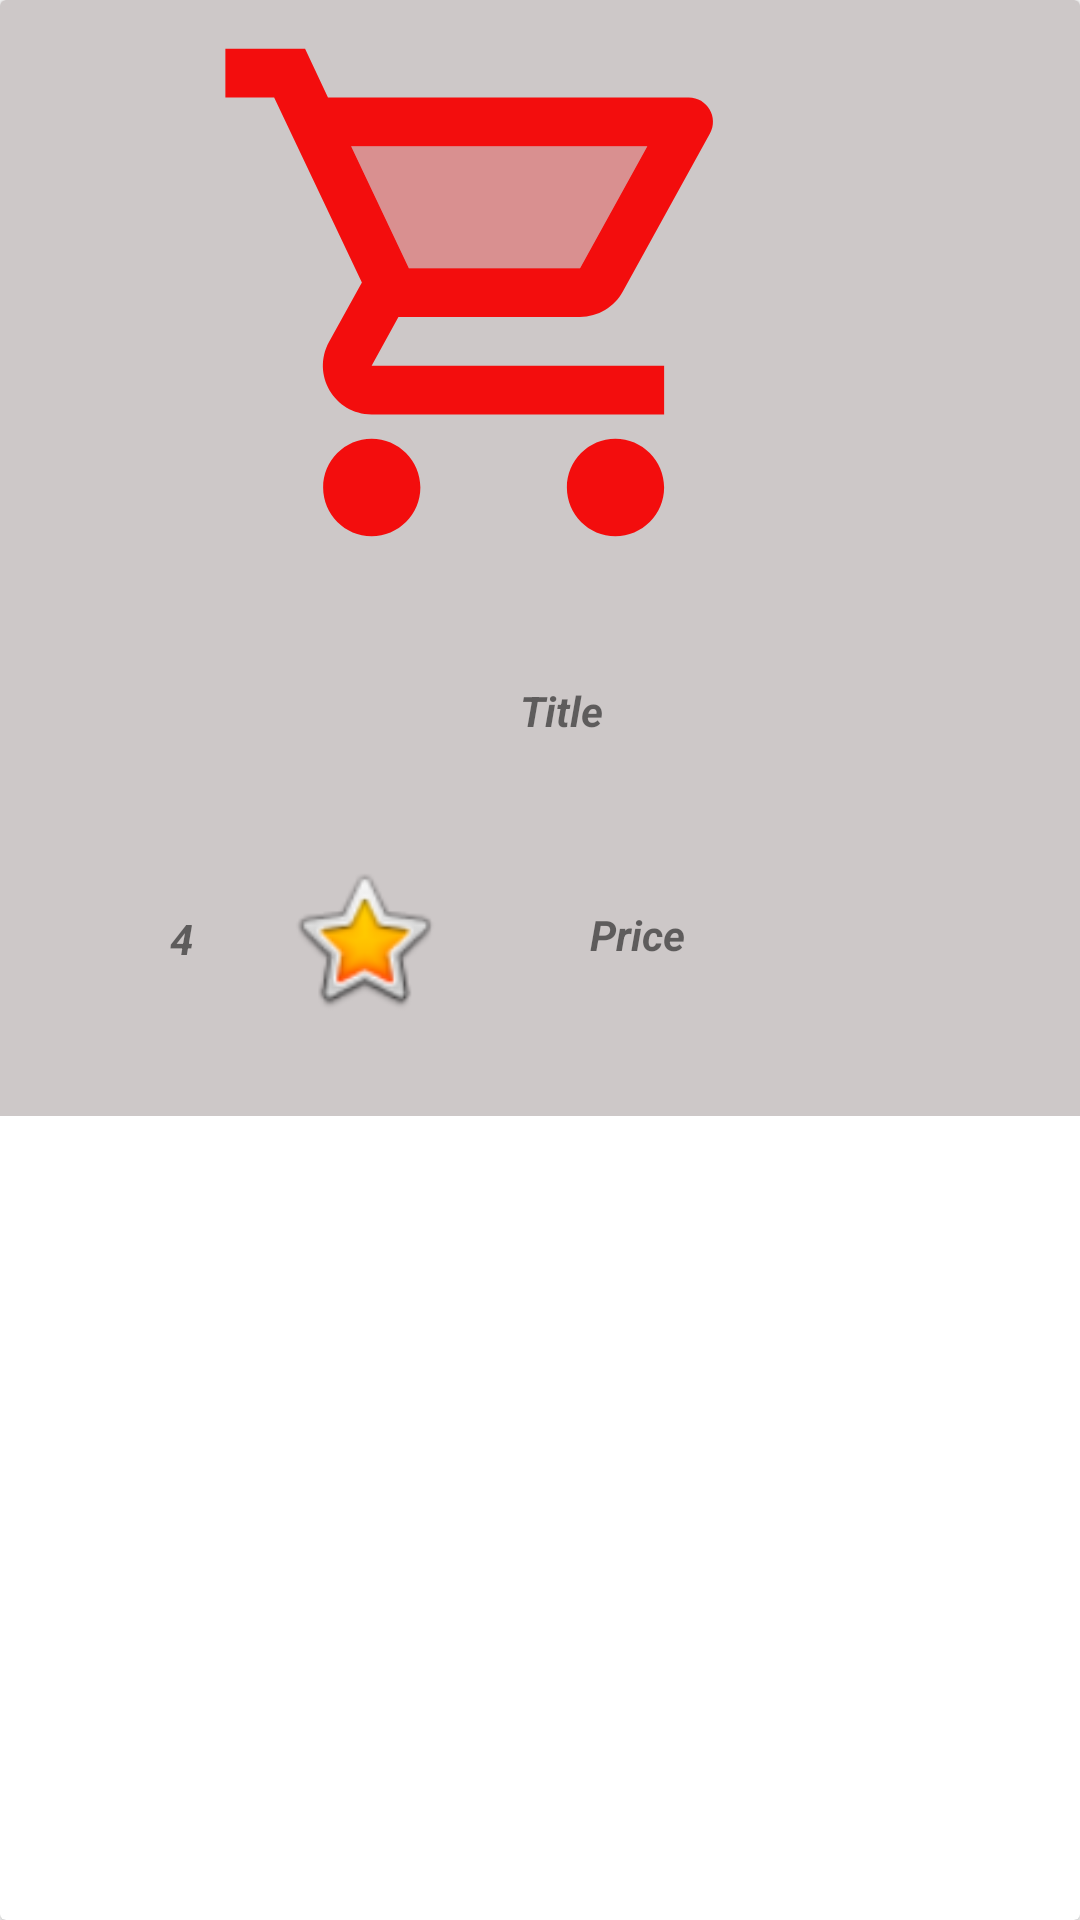

Icons on this 1080×1920 Android screen, each with the point to tap as (x,y):
star on: (365,940)
